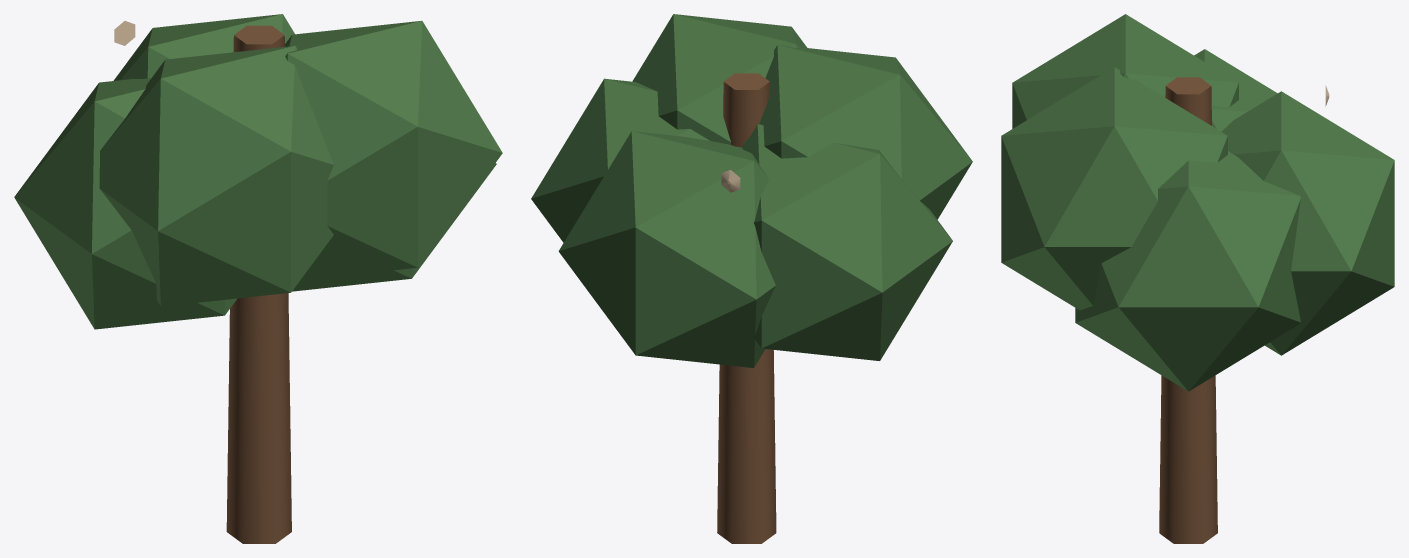
Rendered from crop-peach-tree-stage-3-flowering.glb.
3 renders of one model, left to right at view 1: azimuth 30°, elevation 25°; view 2: azimuth 150°, elevation 25°; view 3: azimuth 270°, elevation 25°, orthographic. The views are drawn at different scales.
Visible parts, largest first — view 1: crop-peach-tree-stage-3-flowering-beach-foliage, crop-peach-tree-stage-3-flowering-beach-trunk; view 2: crop-peach-tree-stage-3-flowering-beach-foliage, crop-peach-tree-stage-3-flowering-beach-trunk; view 3: crop-peach-tree-stage-3-flowering-beach-foliage, crop-peach-tree-stage-3-flowering-beach-trunk.
Part boxes in pixels (left/top/right/bottom): crop-peach-tree-stage-3-flowering-beach-foliage: left=14, top=14, right=502, bottom=329; crop-peach-tree-stage-3-flowering-beach-trunk: left=226, top=25, right=291, bottom=543; crop-peach-tree-stage-3-flowering-beach-foliage: left=531, top=14, right=972, bottom=367; crop-peach-tree-stage-3-flowering-beach-trunk: left=717, top=73, right=776, bottom=543; crop-peach-tree-stage-3-flowering-beach-foliage: left=1001, top=14, right=1394, bottom=391; crop-peach-tree-stage-3-flowering-beach-trunk: left=1159, top=77, right=1217, bottom=543.
Bounding box in the file's own units: 1.79 × 2.21 × 1.71.
